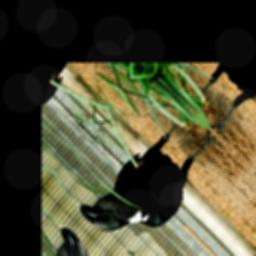Crow: (73, 89, 228, 256)
